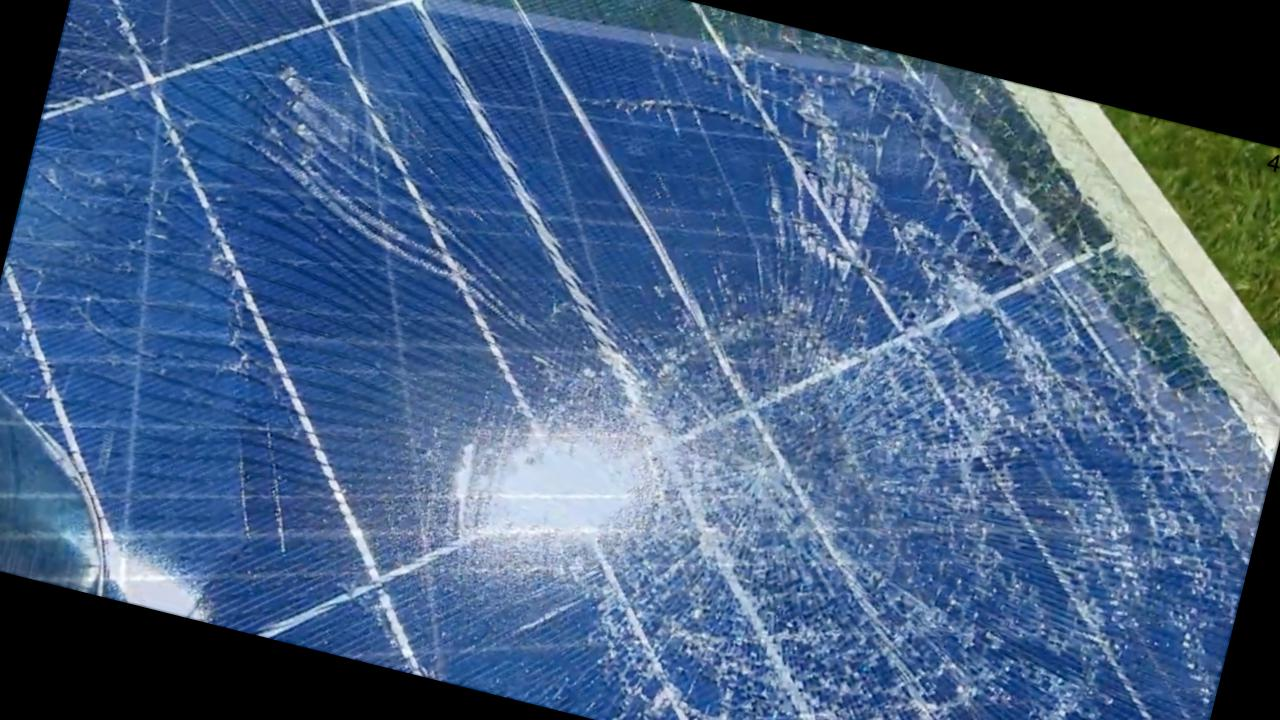Crack: (483, 266, 1062, 719), (740, 44, 1166, 386), (986, 403, 1277, 719)
